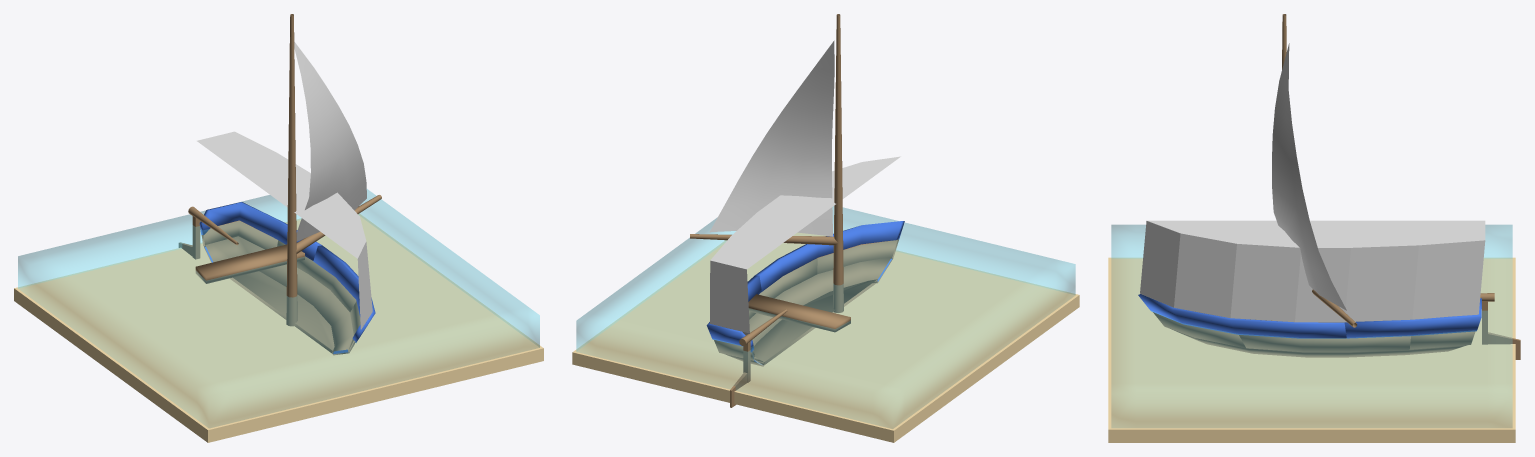
The model's file is boat2.glb.
The picture shows the model from 3 angles, left to right: view 1: azimuth 30°, elevation 25°; view 2: azimuth 150°, elevation 25°; view 3: azimuth 270°, elevation 25°; orthographic projection. The views are drawn at different scales.
Parts seen in each view (by area): view 1: Plane.008, Plane.010, Frame, Plane.001, Plane, Plane.005, Vert, Boat, Plane.006, Plane.007; view 2: Plane.008, Plane.010, Plane.001, Frame, Plane, Vert, Plane.005, Plane.006, Boat, Plane.007; view 3: Plane.008, Plane.010, Frame, Plane, Plane.001, Plane.006, Plane.005, Vert.
Part boxes in pixels (x1,y1,x2,y2): Plane.008: [18, 189, 539, 427]; Plane.010: [14, 213, 543, 442]; Frame: [197, 131, 372, 347]; Plane.001: [294, 42, 366, 241]; Plane: [199, 202, 375, 354]; Plane.005: [204, 236, 353, 355]; Vert: [286, 14, 381, 326]; Boat: [229, 271, 334, 353]; Plane.006: [201, 220, 360, 353]; Plane.007: [195, 244, 304, 283]; Plane.008: [576, 206, 1075, 428]; Plane.010: [572, 232, 1079, 442]; Plane.001: [709, 40, 834, 236]; Frame: [710, 156, 900, 365]; Plane: [706, 221, 904, 362]; Vert: [690, 14, 843, 312]; Plane.005: [725, 257, 892, 366]; Plane.006: [714, 239, 898, 360]; Boat: [754, 279, 877, 365]; Plane.007: [748, 294, 850, 332]; Plane.008: [1111, 225, 1512, 427]; Plane.010: [1108, 257, 1515, 442]; Frame: [1140, 220, 1485, 322]; Plane: [1138, 294, 1481, 338]; Plane.001: [1272, 43, 1346, 310]; Plane.006: [1153, 312, 1475, 352]; Plane.005: [1172, 329, 1466, 357]; Vert: [1282, 14, 1357, 327].
Size of what is drawn, in the model's own units: 8.12 by 7.67 by 8.22.
